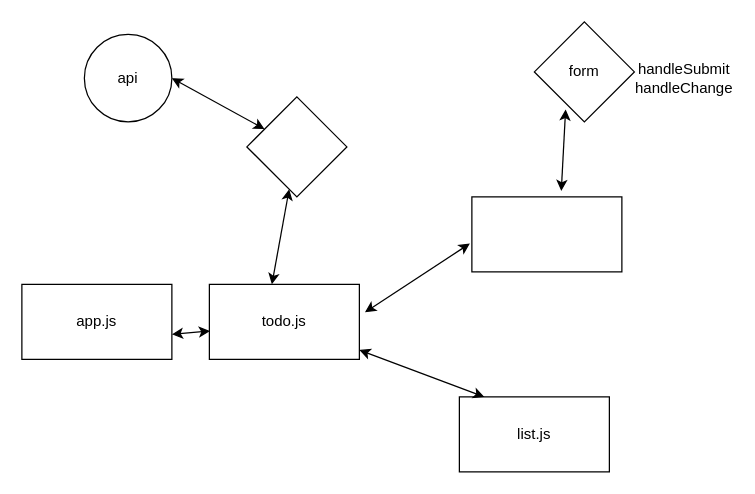
This 755x494 diagram has some shape labels left out. The shapes that lost their labels are listed below. From the top down, each one's centre as x and y in pixels, then its label:
At (296,146): "axios".
At (546,234): "form.js".
